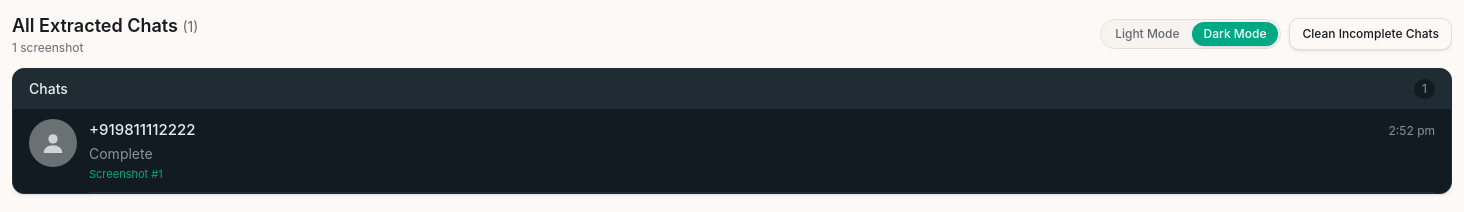
AllExtractedChats › shows Clean Incomplete Chats and reports the actual excluded count
Expected: the button with aria-label "Open +919811112222 in screenshot #1" is shown, 89,119 -> 1435,164
What coordinates should you click on to do the following:
click the button "Clean Incomplete Chats"
I would click on:
 (1371, 34)
Its box is 1290,18 -> 1452,50.
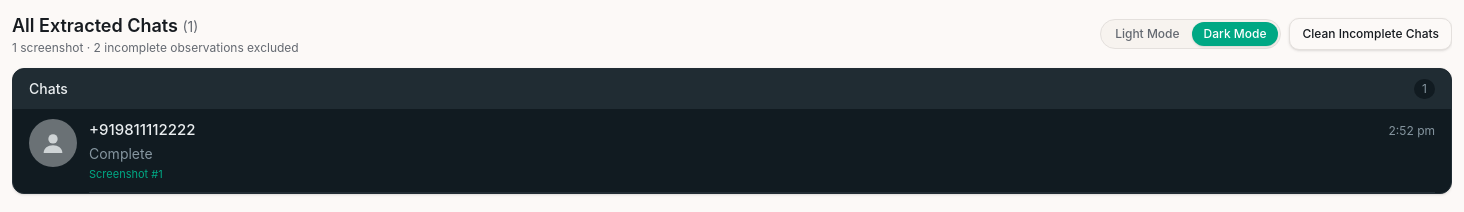
Expected: the text "Complete" is shown, 89,144 -> 153,162
Result: the text "1 screenshot · 2 incomplete observations excluded" is shown at 12,40 -> 299,56
